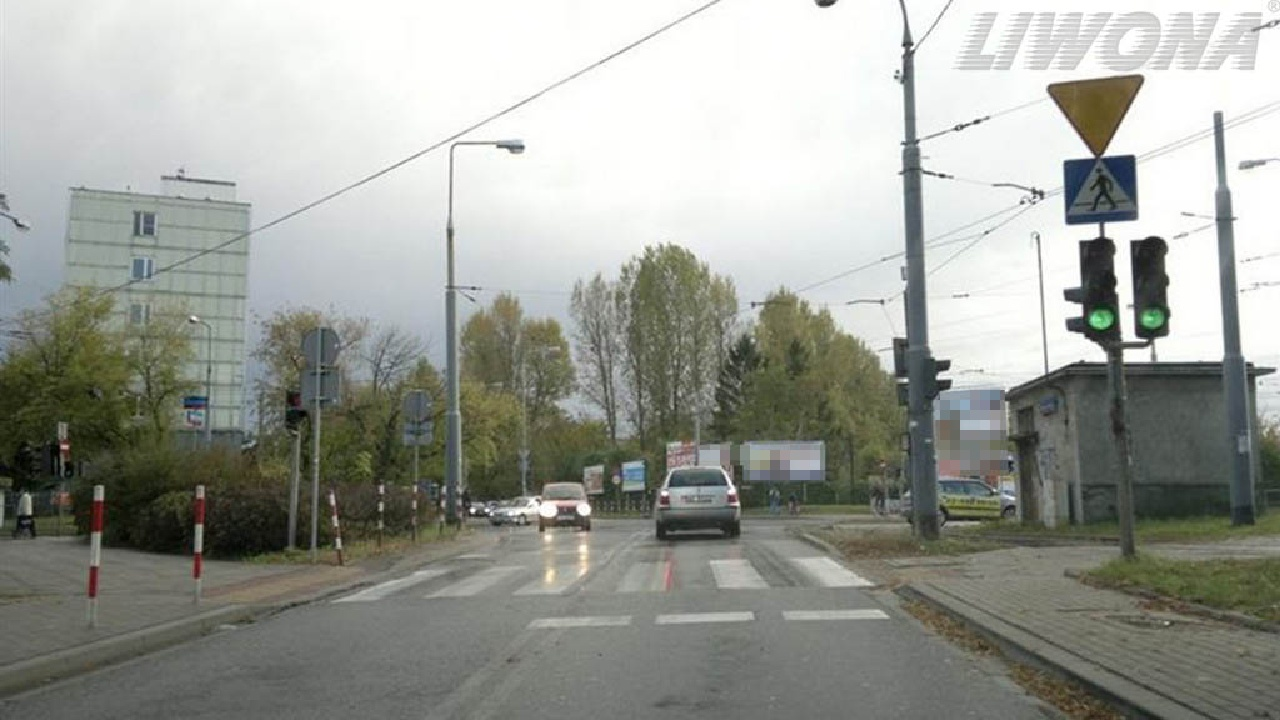A7: (1047, 77, 1145, 157)
D6: (1063, 156, 1138, 224)
Green: (1131, 237, 1170, 338), (1081, 239, 1119, 338)
